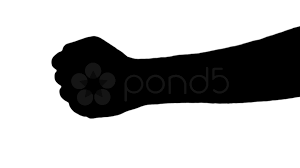fist: (54, 32, 141, 115)
